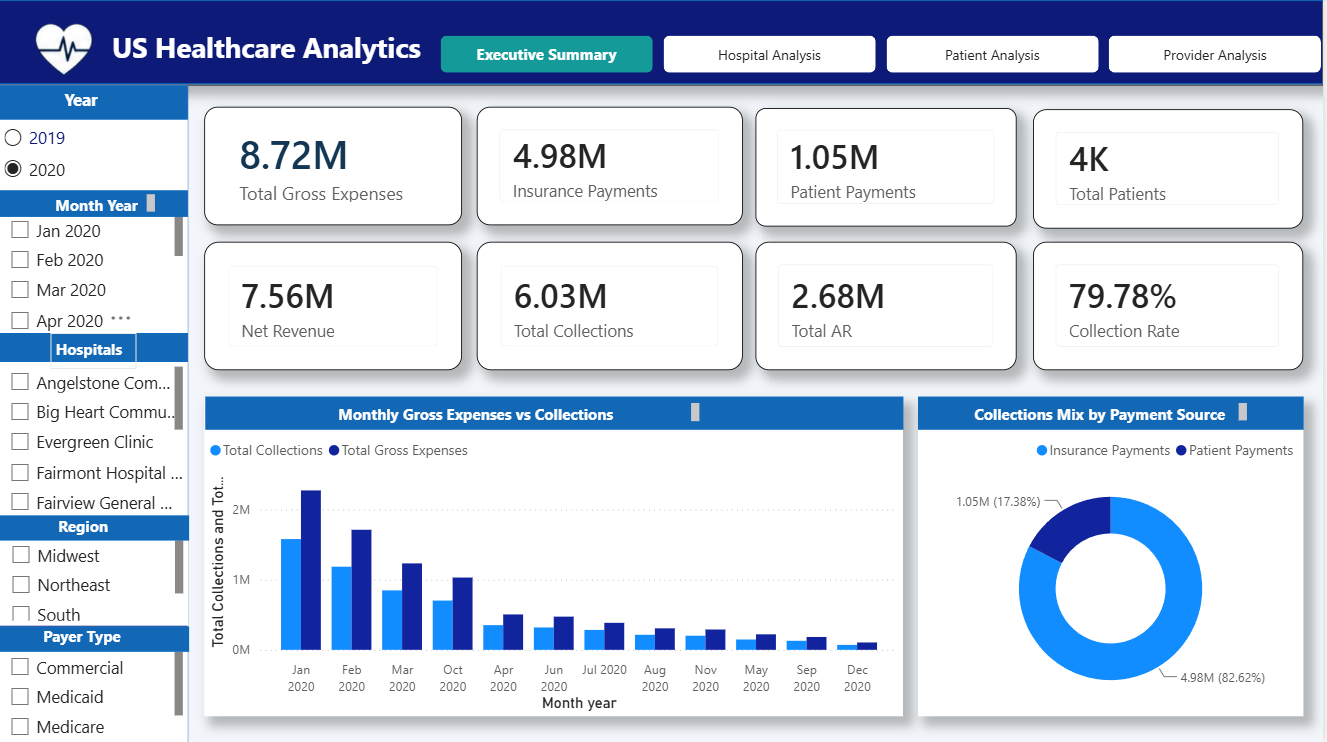

The dashboard page shown, as its layout file describes it:
{"tool":"powerbi","page":{"name":"Executive Summary","canvas":[1280,720],"ordinal":0},"visuals":[{"type":"shape","box":[1.3,84.8,182.3,635.4],"z":0},{"type":"shape","box":[0,1.2,1280,83.2],"z":1000},{"type":"textbox","box":[105.1,24.1,411.4,54.4],"z":2000},{"type":"cardVisual","fields":{"Data":["AdjustmentFactor(%).Total Gross Expenses"]},"box":[198.7,105.1,248.5,114.6],"z":3000},{"type":"cardVisual","fields":{"Data":["FactTable.Insurance Payments"]},"box":[462,105.1,257,114.6],"z":4000},{"type":"cardVisual","fields":{"Data":["FactTable.Patient Payments"]},"box":[731.6,106.3,252.1,114.6],"z":5000},{"type":"cardVisual","fields":{"Data":["FactTable.Total Patients"]},"box":[998.7,107.6,260.8,115.2],"z":6000},{"type":"cardVisual","fields":{"Data":["AdjustmentFactor(%).Net Revenue"]},"box":[198.7,235.4,248.5,124.3],"z":7000},{"type":"cardVisual","fields":{"Data":["AdjustmentFactor(%).Collection Rate"]},"box":[998.7,235.4,260.8,124.1],"z":8000},{"type":"cardVisual","fields":{"Data":["AdjustmentFactor(%).Total Collections"]},"box":[462,235.4,257,124.3],"z":9000},{"type":"cardVisual","fields":{"Data":["AdjustmentFactor(%).Total AR"]},"box":[731.6,235.4,252.1,124.3],"z":10000},{"type":"clusteredColumnChart","fields":{"Category":["DimDate.Month year"],"Y":["AdjustmentFactor(%).Total Collections","AdjustmentFactor(%).Total Gross Expenses"]},"box":[198.7,386.1,674.7,307.6],"z":11000},{"type":"donutChart","fields":{"Y":["FactTable.Insurance Payments","FactTable.Patient Payments"]},"box":[887.3,386.1,372.2,307.6],"z":12000},{"type":"listSlicer","fields":{"Values":["DimDate.Year"]},"box":[0,84.8,183.5,101.3],"z":13000},{"type":"slicer","fields":{"Values":["DimDate.Month year"]},"box":[0,186.1,183.5,145.6],"z":14000},{"type":"slicer","fields":{"Values":["DimHospital.LocationName"]},"box":[0,331.6,183.5,168.4],"z":15000},{"type":"slicer","fields":{"Values":["DimPayer.PayerName"]},"box":[0,606.3,183.5,113.9],"z":16000},{"type":"slicer","fields":{"Values":["DimPatient.Region"]},"box":[1.3,500,182.3,106.3],"z":17000},{"type":"pageNavigator","box":[426.6,36.7,853.2,36.7],"z":18000},{"type":"shape","box":[0,84.8,183.5,32.9],"z":19000},{"type":"shape","box":[0,186.1,183.5,25.3],"z":20000},{"type":"shape","box":[0,322.8,183.5,27.8],"z":21000},{"type":"shape","box":[1.3,500,183.5,24.1],"z":22000},{"type":"shape","box":[1.3,606.3,183.5,24.1],"z":23000},{"type":"textbox","box":[59.5,82.3,65.8,35.4],"z":24000},{"type":"image","box":[0,24.1,125.3,54.4],"z":25000},{"type":"shape","box":[200,384.8,673.4,31.6],"z":26000},{"type":"shape","box":[887.3,384.8,372.2,31.6],"z":27000},{"type":"textbox","box":[323.3,386.1,358.2,35.4],"z":28000},{"type":"textbox","box":[50.7,184.6,106.2,26.5],"z":28001},{"type":"textbox","box":[53.1,494.6,72.4,35],"z":28002},{"type":"textbox","box":[50.7,323.3,83.2,35],"z":28003},{"type":"textbox","box":[937.4,386.1,272.7,35],"z":28004},{"type":"textbox","box":[38.6,600.8,100.1,35],"z":28005}]}

Visuals, with their boxes in screenshot pixels (x1, y1, x2, y2), scaled from the page's 1280x720 canvas onto the 1327x742 screenshot:
shape: [x1=1, y1=87, x2=190, y2=741]
shape: [x1=0, y1=1, x2=1326, y2=87]
textbox: [x1=109, y1=25, x2=535, y2=81]
cardVisual - AdjustmentFactor(%).Total Gross Expenses: [x1=206, y1=108, x2=464, y2=226]
cardVisual - FactTable.Insurance Payments: [x1=479, y1=108, x2=745, y2=226]
cardVisual - FactTable.Patient Payments: [x1=758, y1=110, x2=1020, y2=228]
cardVisual - FactTable.Total Patients: [x1=1035, y1=111, x2=1306, y2=230]
cardVisual - AdjustmentFactor(%).Net Revenue: [x1=206, y1=243, x2=464, y2=371]
cardVisual - AdjustmentFactor(%).Collection Rate: [x1=1035, y1=243, x2=1306, y2=370]
cardVisual - AdjustmentFactor(%).Total Collections: [x1=479, y1=243, x2=745, y2=371]
cardVisual - AdjustmentFactor(%).Total AR: [x1=758, y1=243, x2=1020, y2=371]
clusteredColumnChart - DimDate.Month year x AdjustmentFactor(%).Total Collections: [x1=206, y1=398, x2=905, y2=715]
donutChart - FactTable.Insurance Payments x FactTable.Patient Payments: [x1=920, y1=398, x2=1306, y2=715]
listSlicer - DimDate.Year: [x1=0, y1=87, x2=190, y2=192]
slicer - DimDate.Month year: [x1=0, y1=192, x2=190, y2=342]
slicer - DimHospital.LocationName: [x1=0, y1=342, x2=190, y2=515]
slicer - DimPayer.PayerName: [x1=0, y1=625, x2=190, y2=741]
slicer - DimPatient.Region: [x1=1, y1=515, x2=190, y2=625]
pageNavigator: [x1=442, y1=38, x2=1326, y2=76]
shape: [x1=0, y1=87, x2=190, y2=121]
shape: [x1=0, y1=192, x2=190, y2=218]
shape: [x1=0, y1=333, x2=190, y2=361]
shape: [x1=1, y1=515, x2=192, y2=540]
shape: [x1=1, y1=625, x2=192, y2=650]
textbox: [x1=62, y1=85, x2=130, y2=121]
image: [x1=0, y1=25, x2=130, y2=81]
shape: [x1=207, y1=397, x2=905, y2=429]
shape: [x1=920, y1=397, x2=1306, y2=429]
textbox: [x1=335, y1=398, x2=707, y2=434]
textbox: [x1=53, y1=190, x2=163, y2=218]
textbox: [x1=55, y1=510, x2=130, y2=546]
textbox: [x1=53, y1=333, x2=139, y2=369]
textbox: [x1=972, y1=398, x2=1255, y2=434]
textbox: [x1=40, y1=619, x2=144, y2=655]
